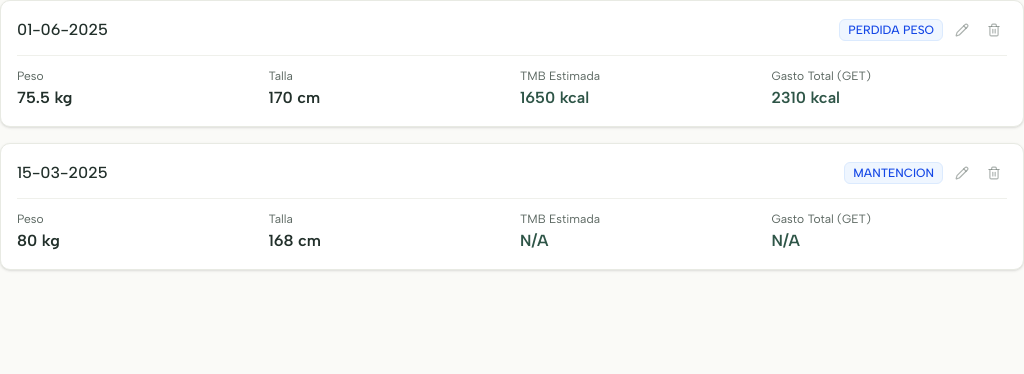
HistorialEvaluaciones › al hacer clic en Editar, la tarjeta muestra los inputs de edición
Click the button named "editar evaluación" next to "perdida peso" at (962, 30), box x1=949 y1=17 x2=975 y2=43
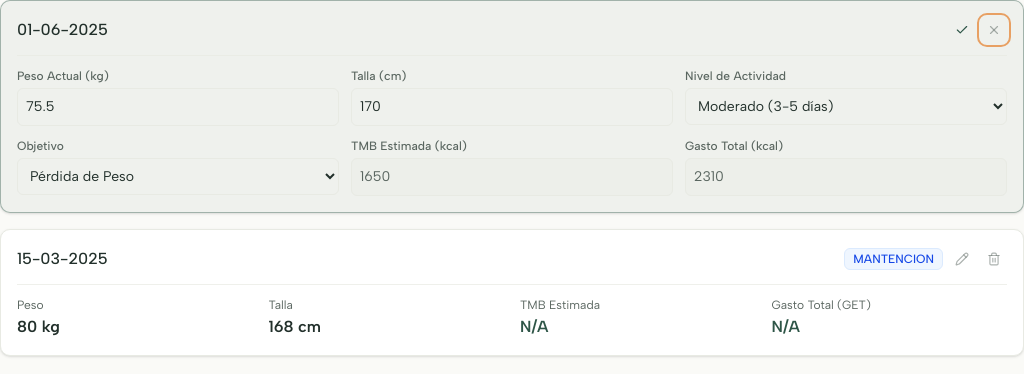
Check: the number field named "peso actual" is shown, box x1=17 y1=88 x2=339 y2=126
Check: the number field named "talla" is shown, box x1=351 y1=88 x2=673 y2=126
Check: the dropdown named "nivel de actividad" is shown, box x1=685 y1=88 x2=1007 y2=125
